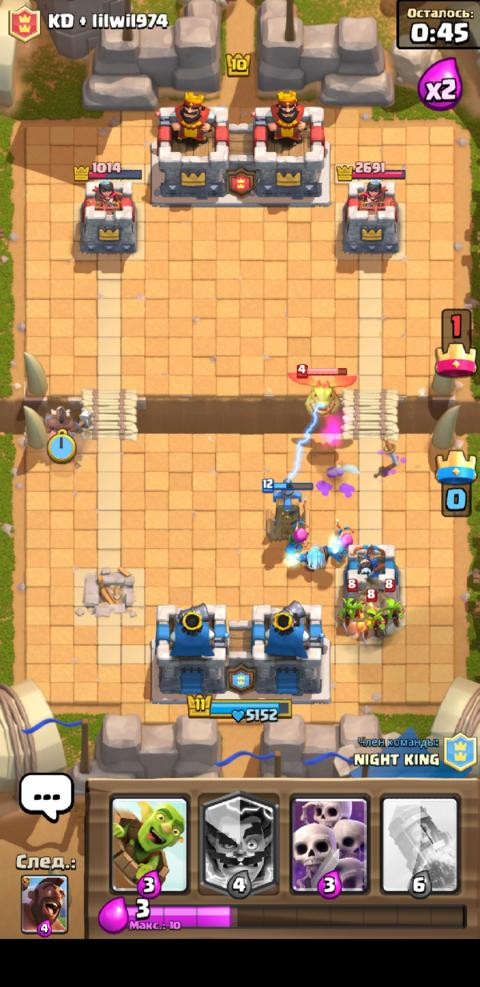ally_archer: (283, 517, 310, 555), (331, 519, 354, 563)
ally_hog_rider: (42, 403, 91, 448)
ally_ice_wizard: (283, 536, 338, 572)
ally_tesla: (260, 475, 314, 542)
enemy_baby_dragon: (285, 363, 358, 419)
enemy_goblin: (356, 587, 384, 647), (334, 578, 363, 635), (380, 577, 404, 627)
